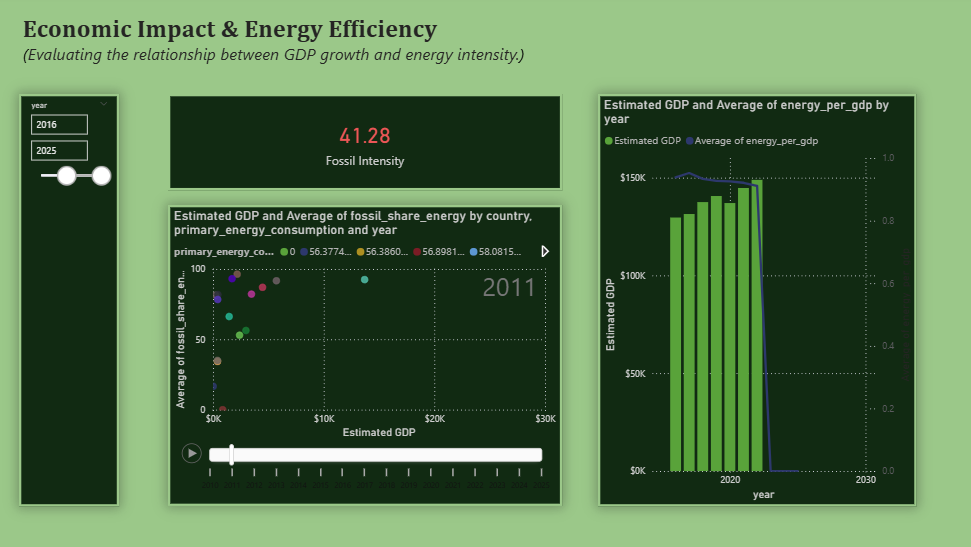

The dashboard page shown, as its layout file describes it:
{"tool":"powerbi","page":{"name":"Economic Impact","canvas":[1280,720],"ordinal":2},"visuals":[{"type":"slicer","fields":{"Values":["data.year"]},"box":[30,122.9,131.4,540],"z":0},{"type":"scatterChart","fields":{"Category":["data.country"],"X":["data.Estimated GDP"],"Y":["Avg(data.fossil_share_energy)"],"Series":["data.primary_energy_consumption"],"Play":["data.year"]},"box":[225.7,268.6,515.7,394.3],"z":1000},{"type":"lineStackedColumnComboChart","fields":{"Category":["data.year"],"Y":["data.Estimated GDP"],"Y2":["Avg(data.energy_per_gdp)"]},"box":[788.6,122.9,417.1,540],"z":2000},{"type":"card","fields":{"Values":["data.Fossil Intensity"]},"box":[225.7,122.9,515.7,125.7],"z":3000},{"type":"textbox","box":[30,12.9,852.9,88.6],"z":4000}]}

Visuals, with their boxes in screenshot pixels (x1, y1, x2, y2), scaled from the page's 1280x720 canvas onto the 971x547 screenshot:
slicer - data.year: crop(23, 93, 122, 504)
scatterChart - data.country x data.Estimated GDP: crop(171, 204, 562, 504)
lineStackedColumnComboChart - data.year x data.Estimated GDP: crop(598, 93, 915, 504)
card - data.Fossil Intensity: crop(171, 93, 562, 189)
textbox: crop(23, 10, 670, 77)
